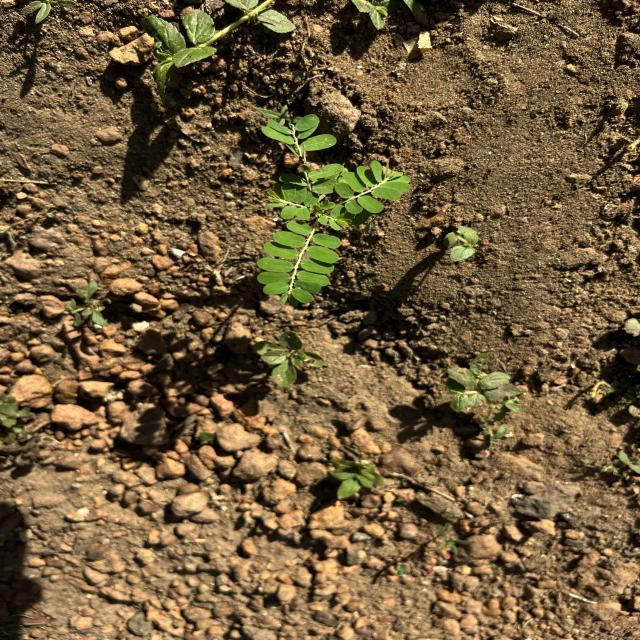Phyllanthus niruri: (256, 220, 342, 306), (334, 160, 412, 216), (262, 183, 322, 222)
